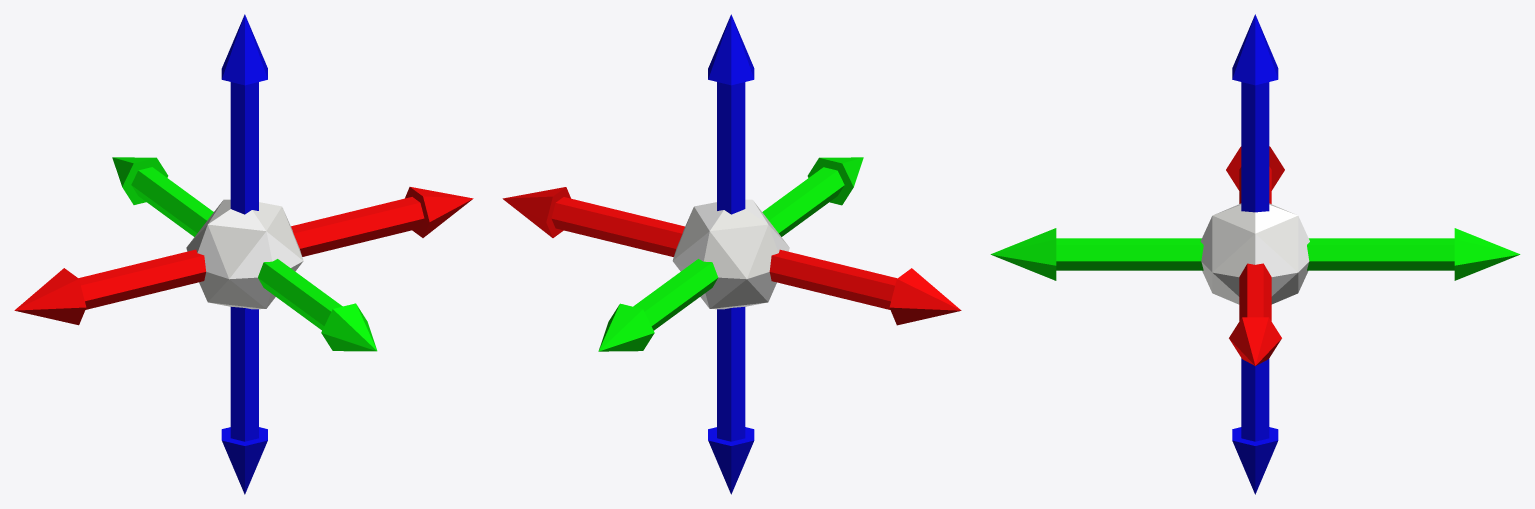
The model's file is Move.fbx.
The picture shows the model from 3 angles, left to right: view 1: azimuth 30°, elevation 25°; view 2: azimuth 150°, elevation 25°; view 3: azimuth 270°, elevation 25°; orthographic projection.
Visible parts, largest first — view 1: Group1; view 2: Group1; view 3: Group1.
Part boxes in pixels (bbox=[...]): Group1: bbox=[14, 14, 473, 494]; Group1: bbox=[502, 14, 961, 494]; Group1: bbox=[990, 14, 1520, 494].
Bounding box in the file's own units: 1.88 × 1.88 × 1.88.
